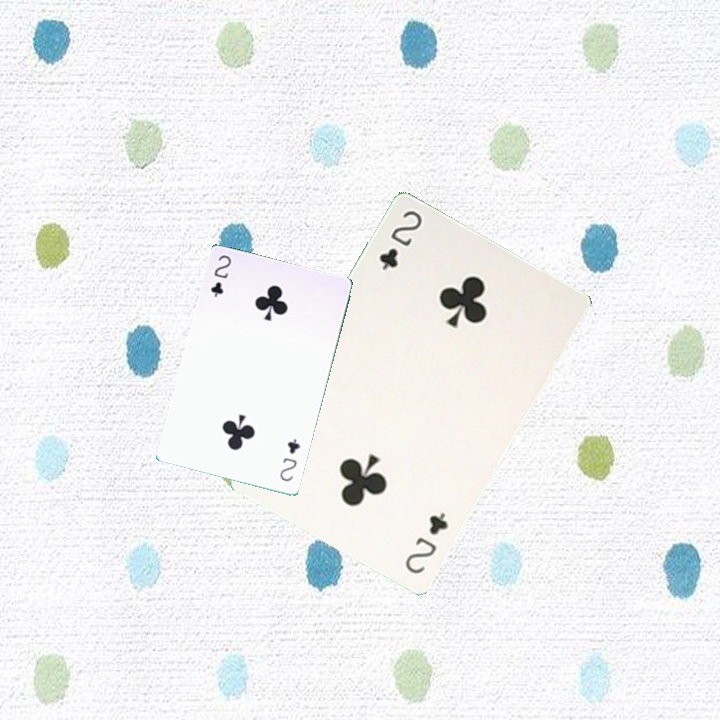2c: (400, 508, 451, 577), (375, 206, 425, 273), (276, 435, 303, 484), (207, 251, 234, 300)
